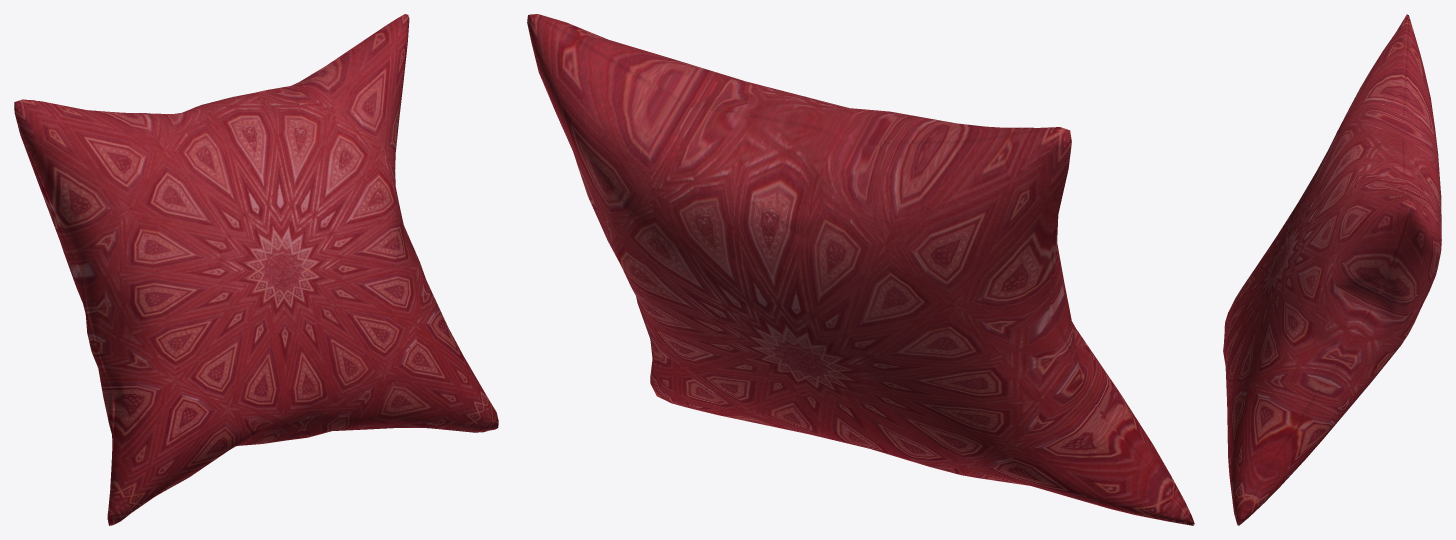
The model's file is Pillow 1.fbx.
3 views of the same model, side by side, from view 1: azimuth 30°, elevation 25°; view 2: azimuth 150°, elevation 25°; view 3: azimuth 270°, elevation 25° (orthographic). The views are drawn at different scales.
Parts seen in each view (by area): view 1: pillow 1; view 2: pillow 1; view 3: pillow 1.
Part boxes in pixels (box(x1,y1,x2,y2)): pillow 1: box(14, 14, 498, 525); pillow 1: box(527, 14, 1194, 525); pillow 1: box(1223, 14, 1441, 525).
Bounding box in the file's own units: 16.64 × 14.34 × 8.51.
Materials: 1 (1 with a texture image).
